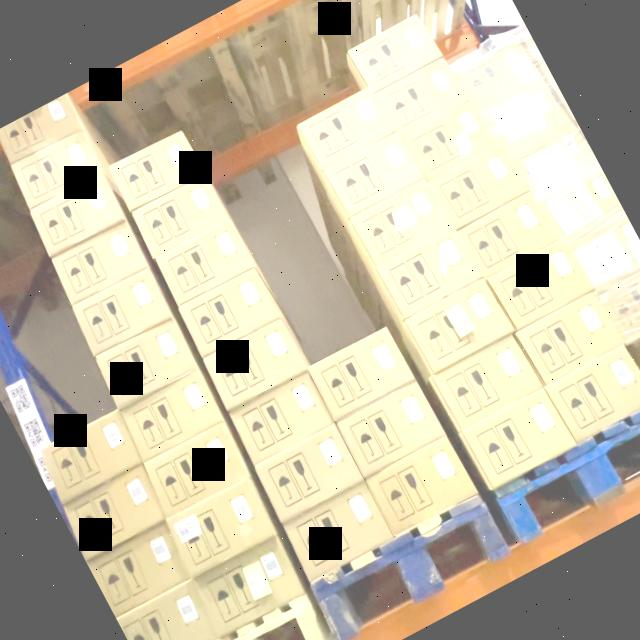box: (364, 433, 481, 537), (280, 479, 394, 581), (335, 377, 448, 478), (250, 422, 364, 522), (462, 387, 574, 488), (514, 288, 626, 387), (306, 322, 417, 421), (432, 334, 542, 431), (37, 406, 148, 502), (194, 537, 304, 633), (166, 478, 276, 574), (406, 278, 512, 374), (144, 424, 252, 516), (228, 372, 334, 465), (202, 317, 308, 409), (94, 317, 200, 409), (62, 466, 168, 558), (70, 266, 176, 357), (376, 226, 480, 318), (489, 238, 593, 330), (120, 369, 225, 460), (178, 266, 282, 357), (351, 178, 452, 268), (548, 342, 640, 440), (90, 524, 190, 613), (324, 131, 424, 219), (458, 188, 558, 276), (28, 172, 128, 258), (131, 172, 230, 258), (431, 142, 528, 229), (157, 220, 256, 305), (298, 85, 395, 170), (109, 128, 206, 212), (51, 221, 148, 304), (404, 97, 498, 182), (10, 128, 105, 210), (377, 56, 468, 136), (348, 15, 440, 94), (457, 34, 548, 112), (511, 120, 599, 200), (482, 75, 570, 153), (117, 579, 219, 640), (541, 166, 623, 241), (565, 213, 640, 295), (0, 93, 83, 164), (596, 263, 640, 340)
